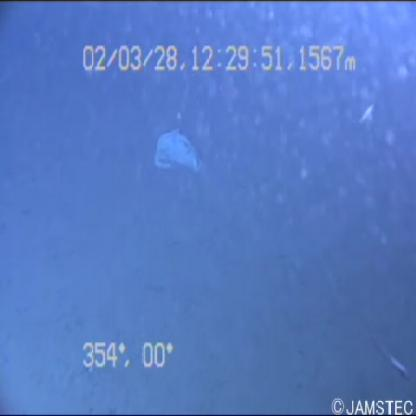Rác: (139, 121, 207, 186)
